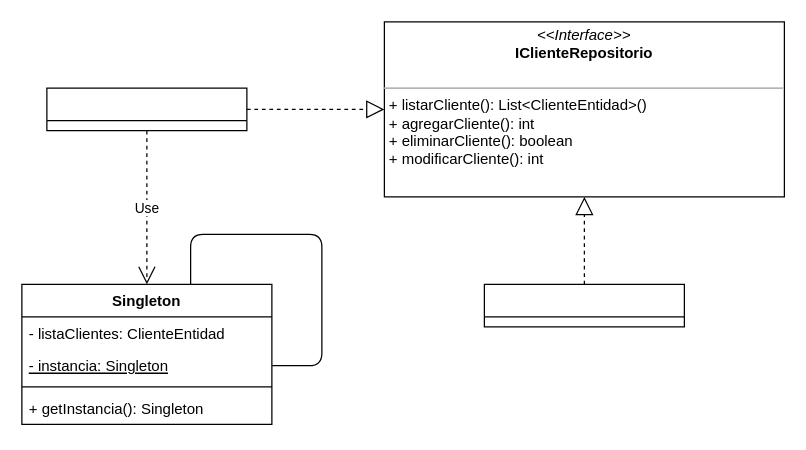
Some shapes in this 806 by 450 pixel diagram are drawn without their labels. The shapes that lost their labels are listed below. From the top down, each one's box as (x1, y1, x2, y2) in pixels, then its label:
(46, 87, 247, 131): FakeCientePersistencia
(483, 283, 684, 327): CientePersistencia
